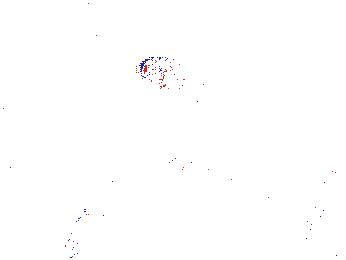X-ray fish: (130, 54, 202, 88)
glassfish: (66, 175, 122, 254), (158, 152, 241, 189)
